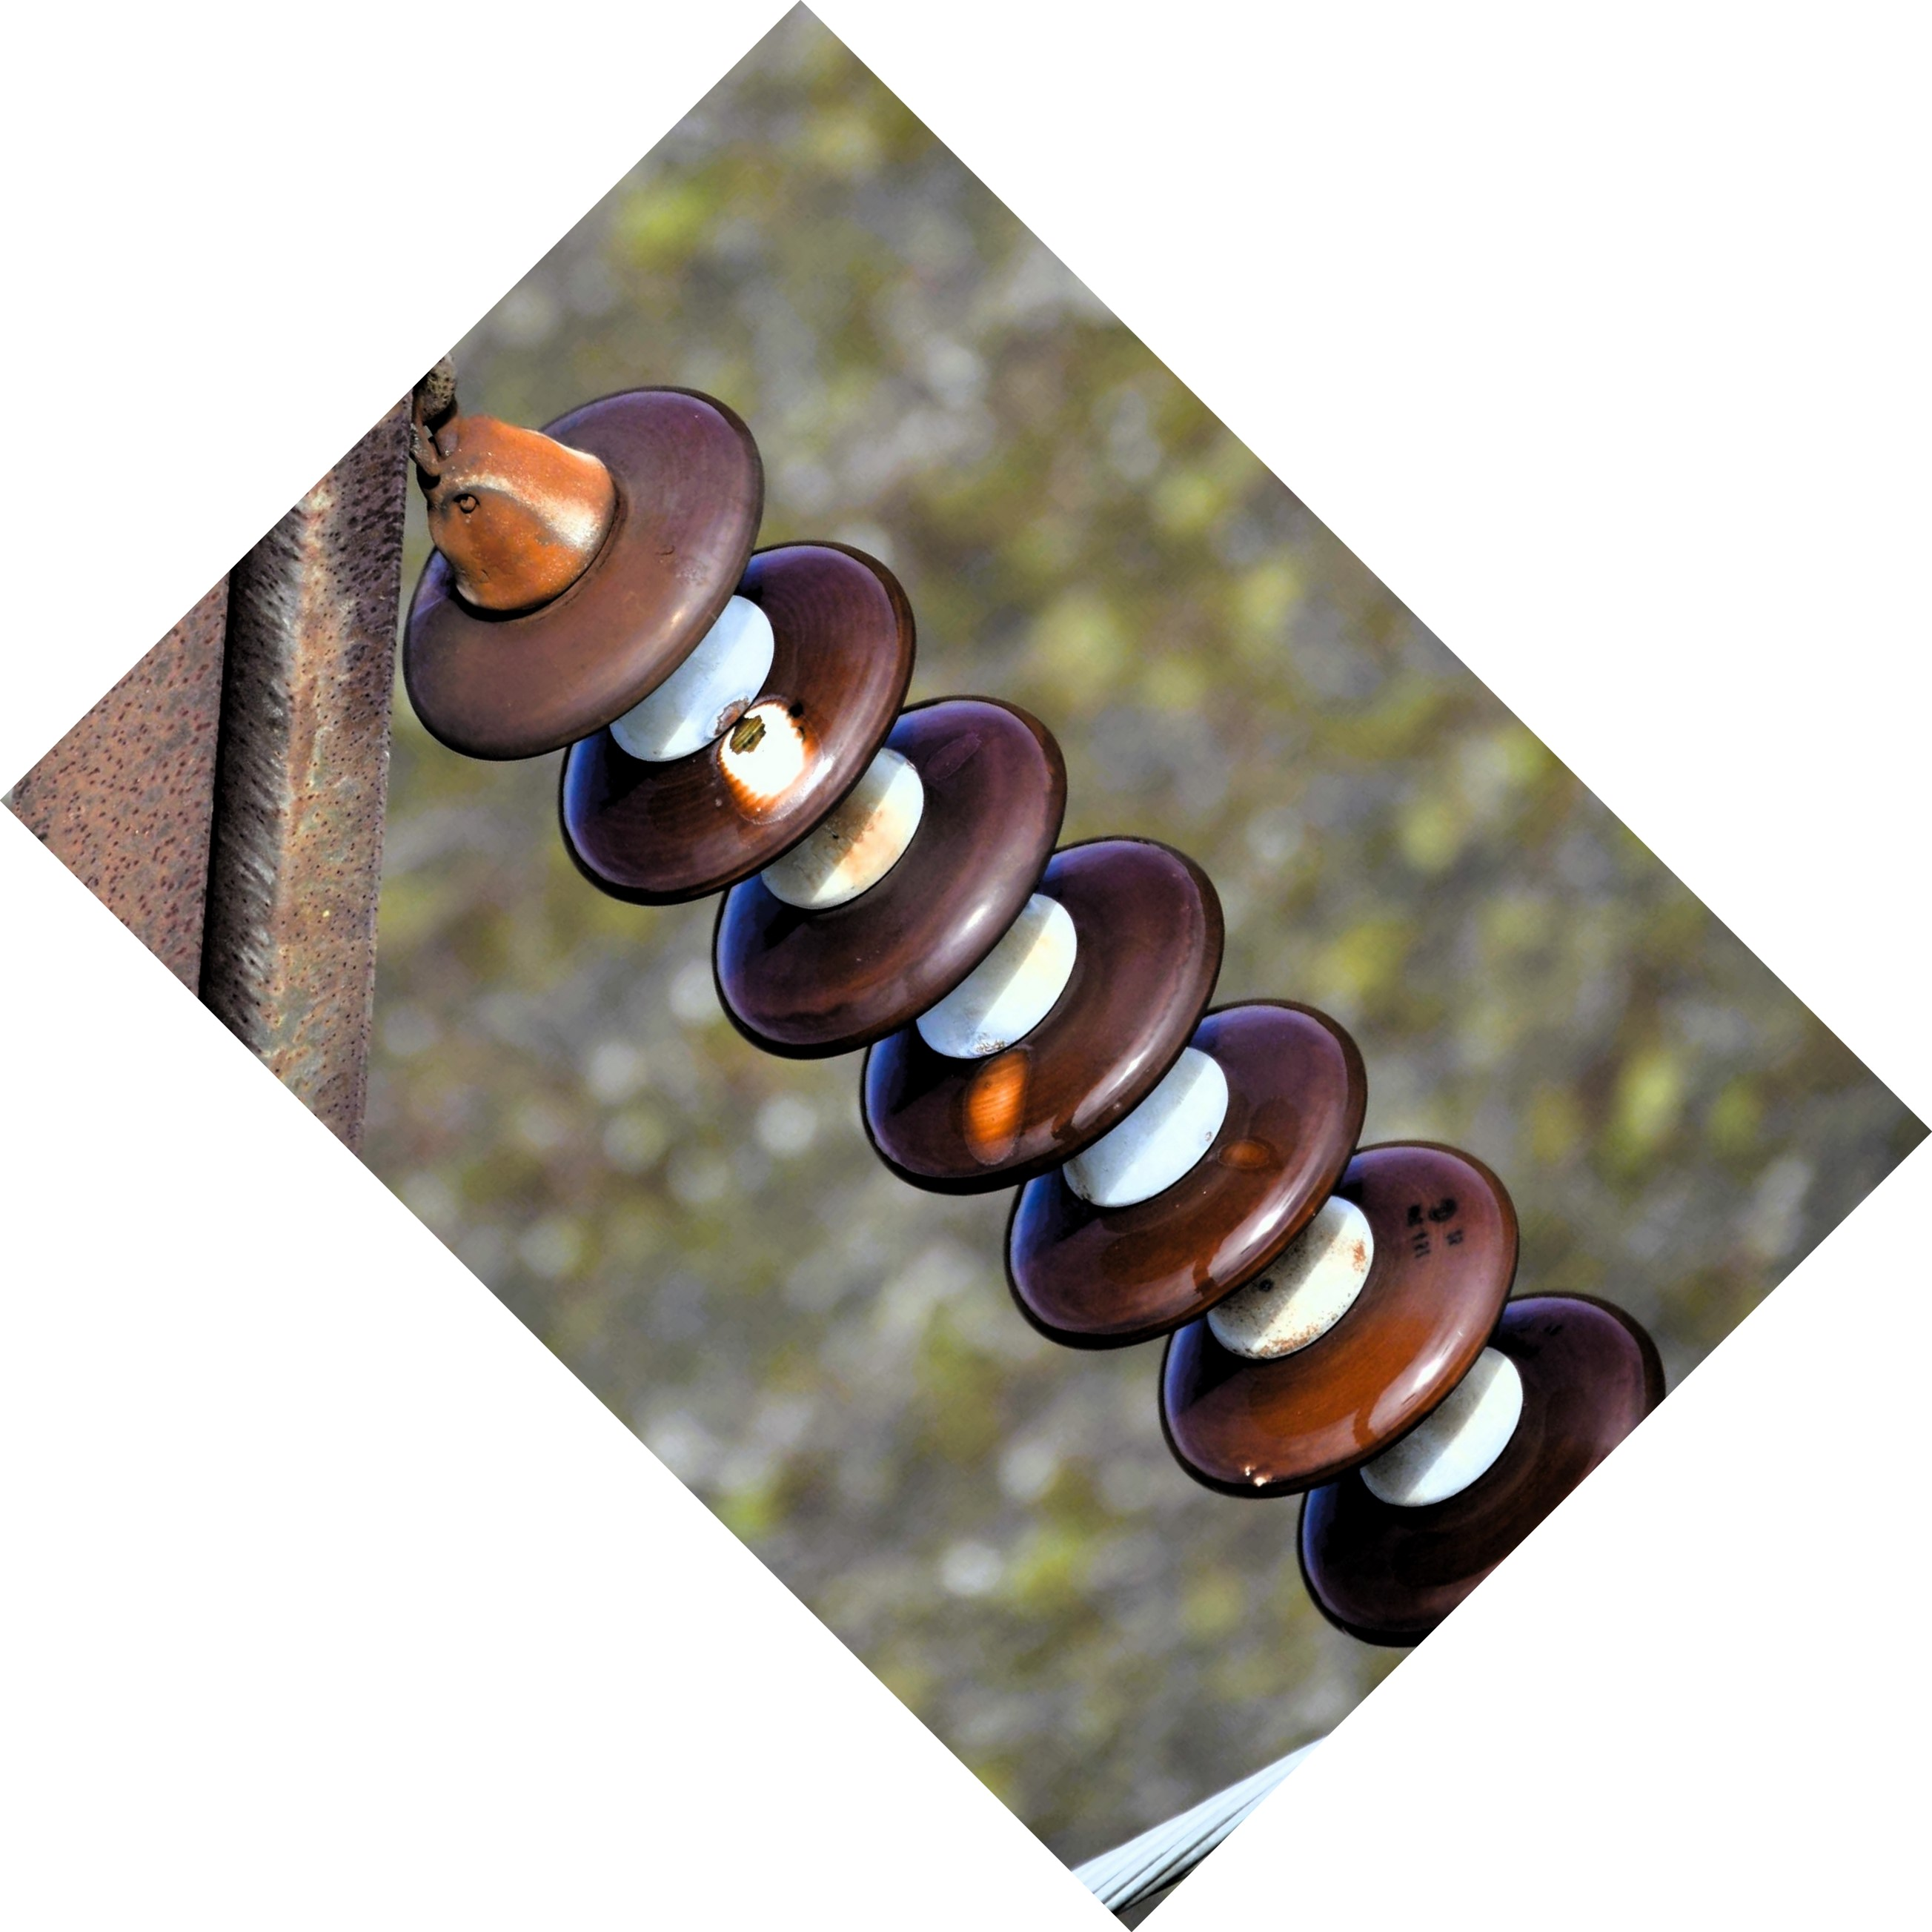Insulator flashover: (522, 529, 925, 916), (855, 828, 1240, 1205)
